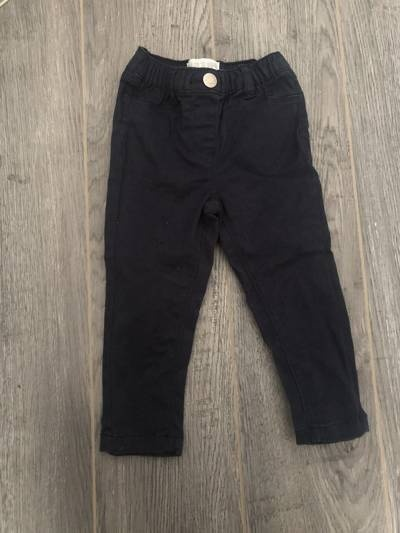Pants: (61, 25, 385, 480)
